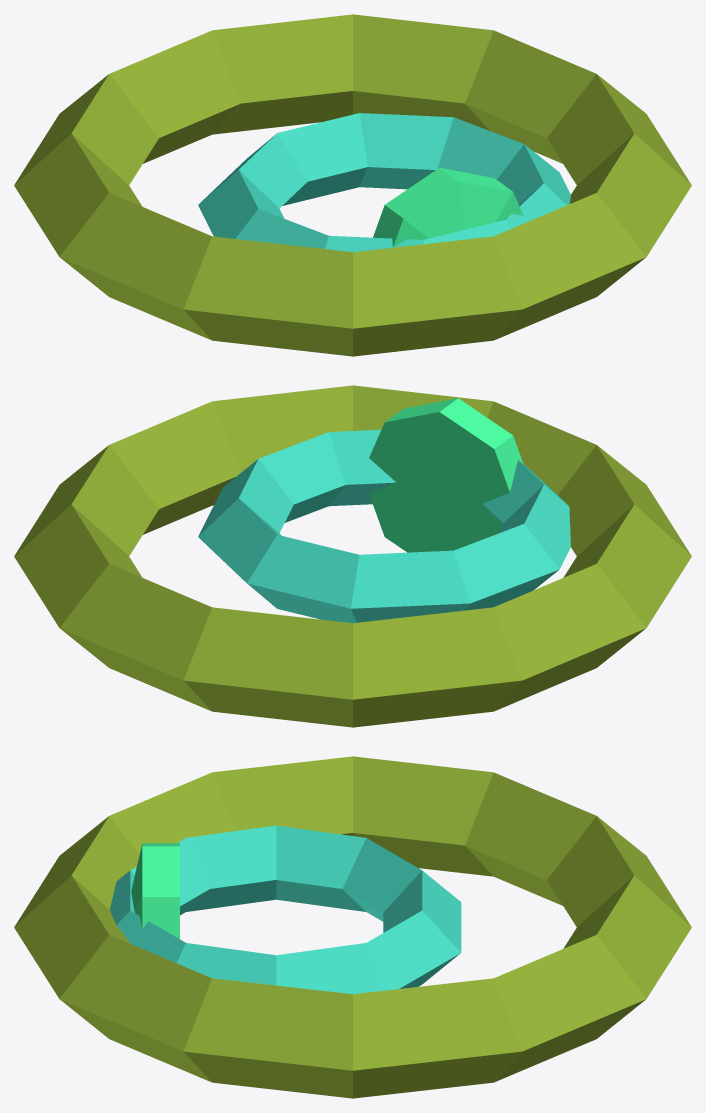
The model's file is void_vortex.obj.
3 views of the same model, one above another, from view 1: azimuth 30°, elevation 25°; view 2: azimuth 150°, elevation 25°; view 3: azimuth 270°, elevation 25° (orthographic).
Parts seen in each view (by area): view 1: void_vortex_outer, void_vortex_inner, void_eye; view 2: void_vortex_outer, void_vortex_inner, void_eye; view 3: void_vortex_outer, void_vortex_inner, void_eye.
Part boxes in pixels (x1,y1,x2,y2): void_vortex_outer: [14, 14, 691, 356]; void_vortex_inner: [198, 113, 570, 252]; void_eye: [373, 167, 523, 247]; void_vortex_outer: [14, 385, 691, 727]; void_vortex_inner: [198, 429, 570, 623]; void_eye: [369, 398, 523, 552]; void_vortex_outer: [14, 756, 691, 1098]; void_vortex_inner: [110, 825, 461, 994]; void_eye: [131, 843, 179, 938].
Size of the model in its own units: 0.53 by 0.14 by 0.53.
